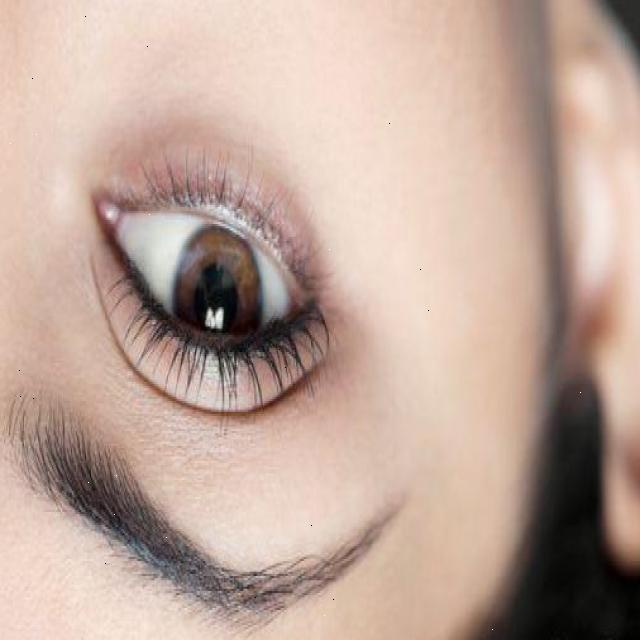Normal: (172, 219, 262, 378)
